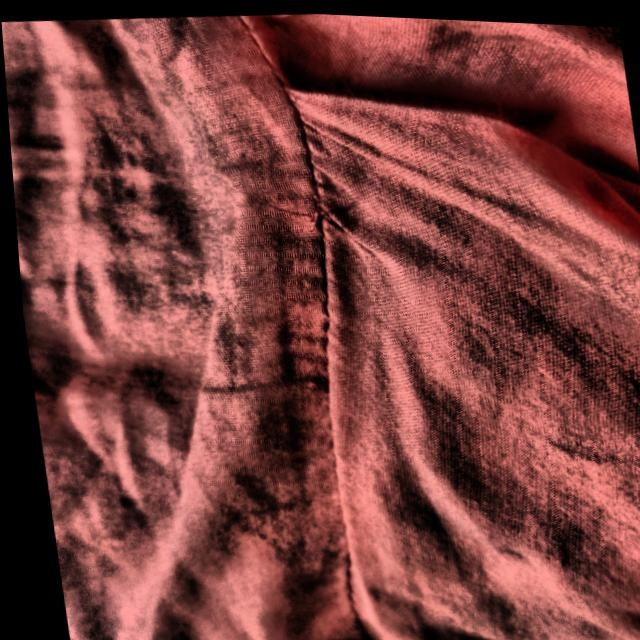Stitch: (228, 149, 391, 295), (237, 157, 373, 270), (240, 165, 360, 244)
